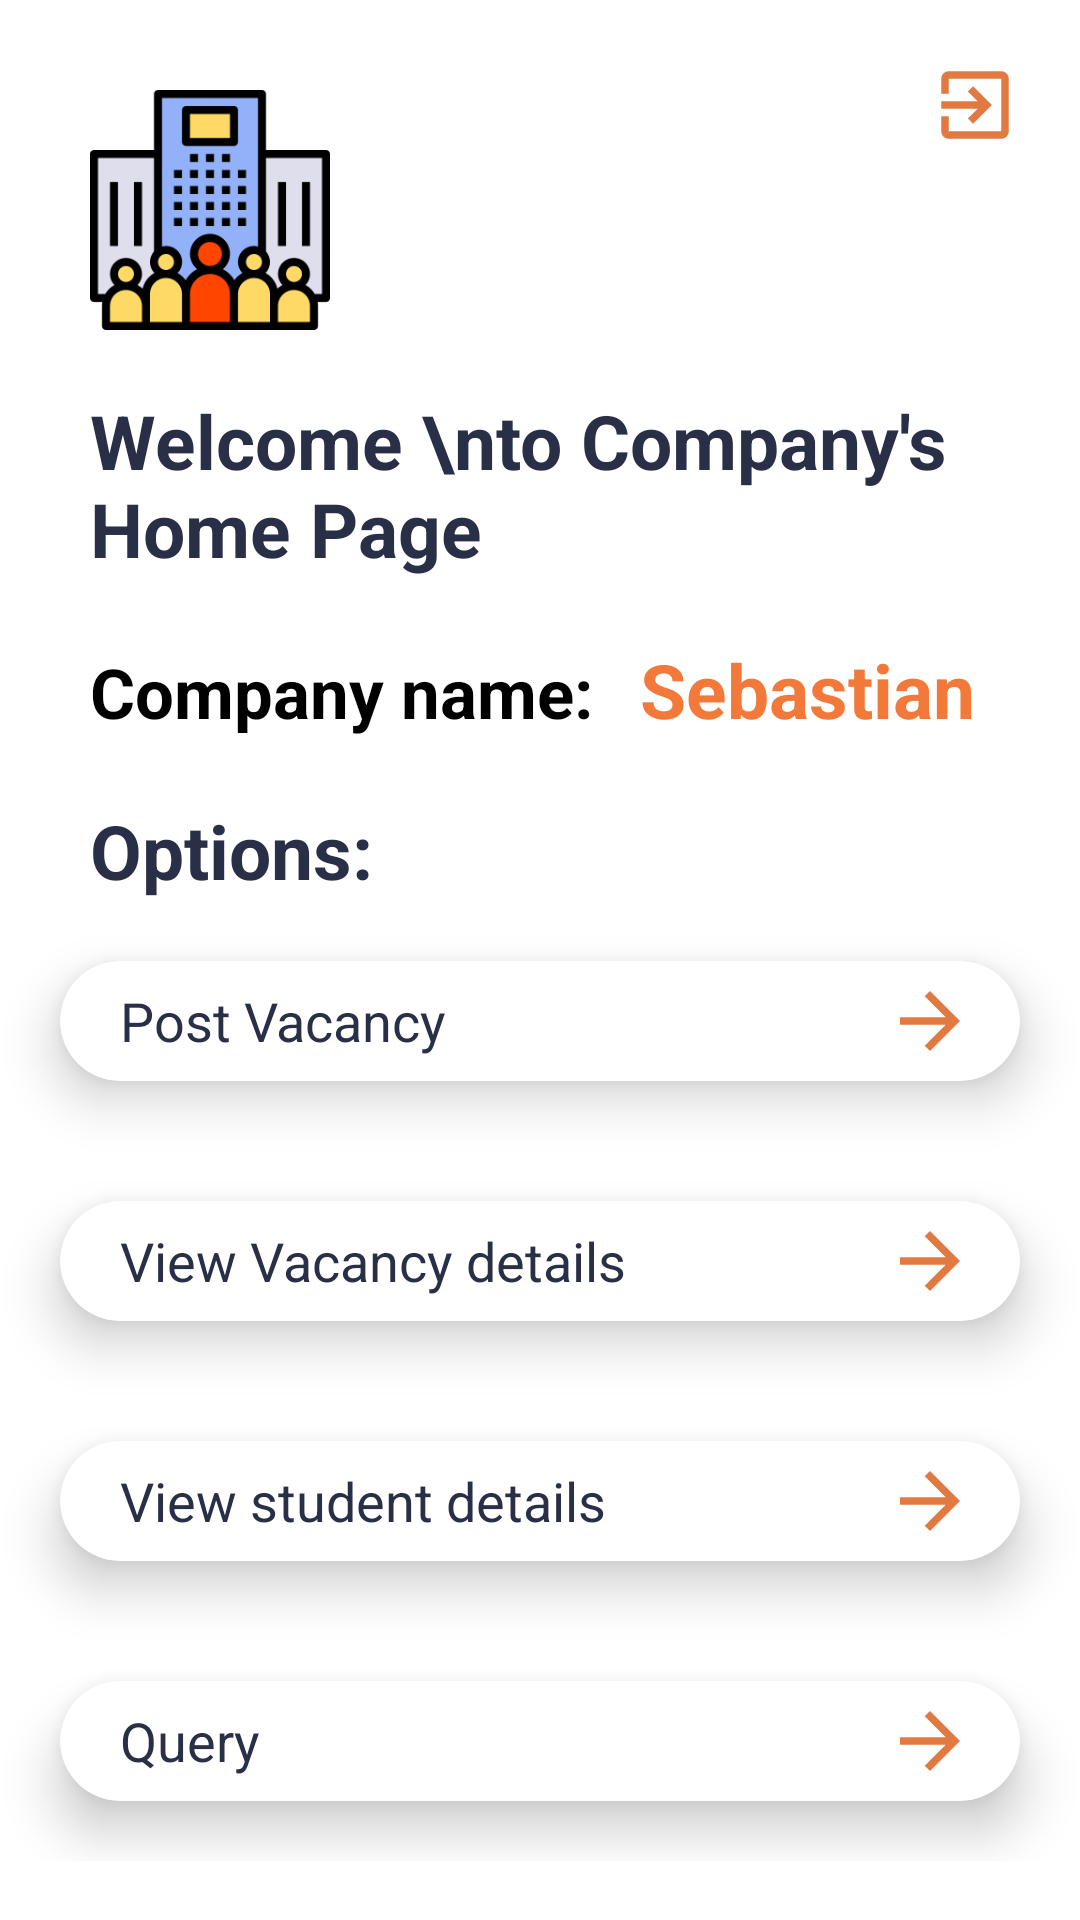

Icons on this 1080×1920 Android screen, each with its box as {"x1": x1, "y1": y1, "x2": x2, "y2": y2}:
arrow forward: {"x1": 900, "y1": 991, "x2": 1020, "y2": 1051}, {"x1": 900, "y1": 1231, "x2": 960, "y2": 1291}, {"x1": 900, "y1": 1471, "x2": 960, "y2": 1531}, {"x1": 900, "y1": 1711, "x2": 960, "y2": 1771}
exit to app: {"x1": 941, "y1": 71, "x2": 1009, "y2": 139}
